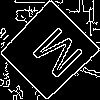M: (24, 25, 85, 87)
